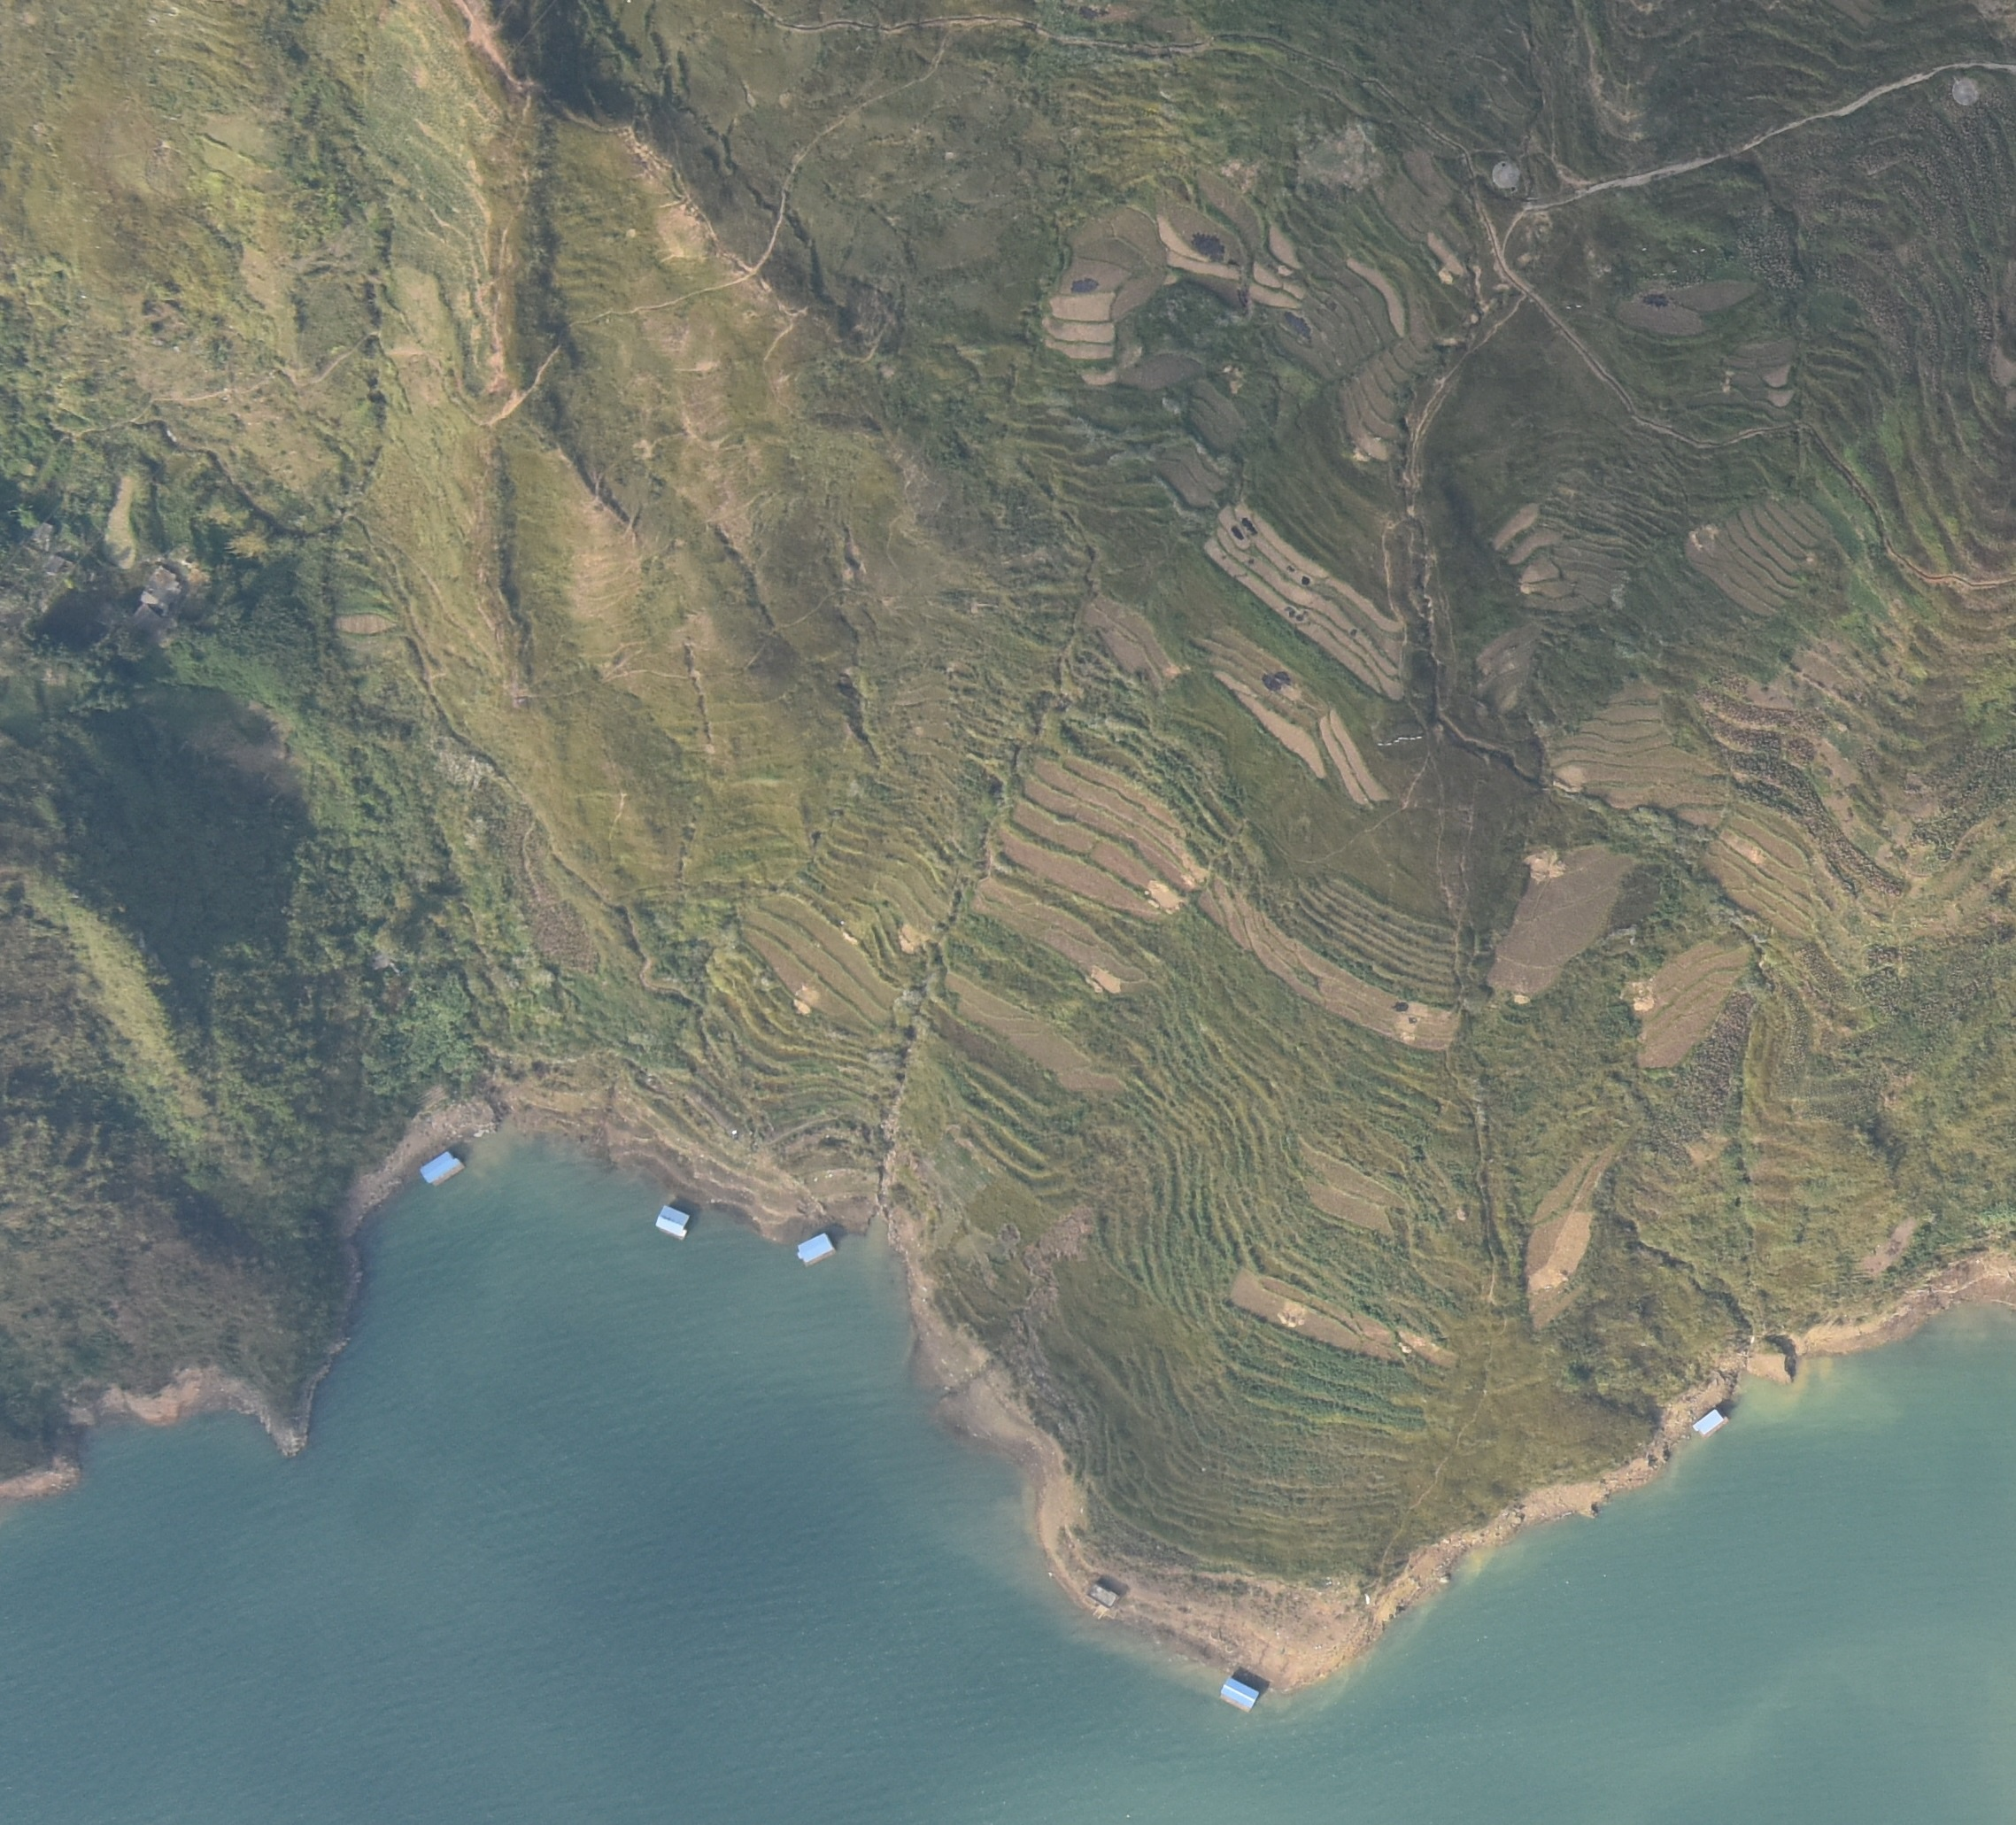building: (1084, 1583, 1120, 1609)
prefabricated-house: (418, 1150, 464, 1186), (653, 1203, 693, 1241), (1219, 1676, 1260, 1709), (797, 1232, 836, 1264), (1691, 1406, 1730, 1437)
well: (1489, 157, 1526, 189), (1951, 77, 1985, 108)
